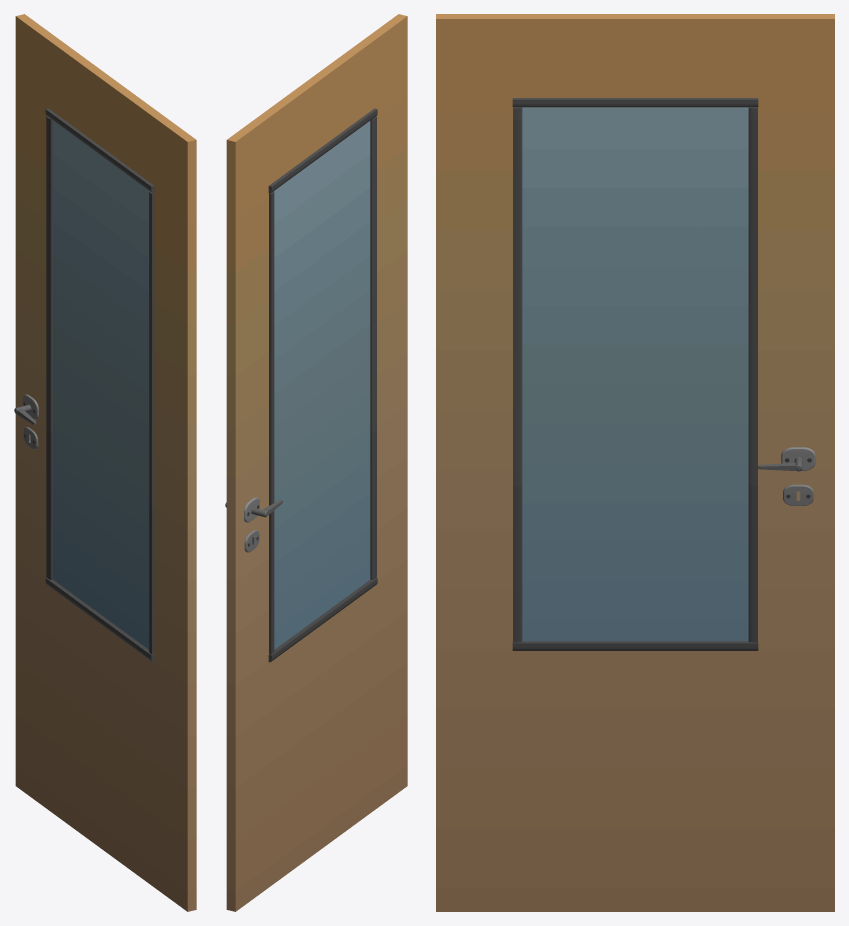
The model's file is doors1.fbx.
The picture shows the model from 3 angles, left to right: view 1: azimuth 30°, elevation 25°; view 2: azimuth 150°, elevation 25°; view 3: azimuth 270°, elevation 25°; orthographic projection. The views are drawn at different scales.
Parts seen in each view (by area): view 1: doors1; view 2: doors1; view 3: doors1.
Part boxes in pixels (left/top/right/bottom): doors1: left=14, top=14, right=196, bottom=911; doors1: left=225, top=14, right=407, bottom=911; doors1: left=436, top=14, right=834, bottom=911.
Size of the model in its own units: 21.14 by 381 by 154.
